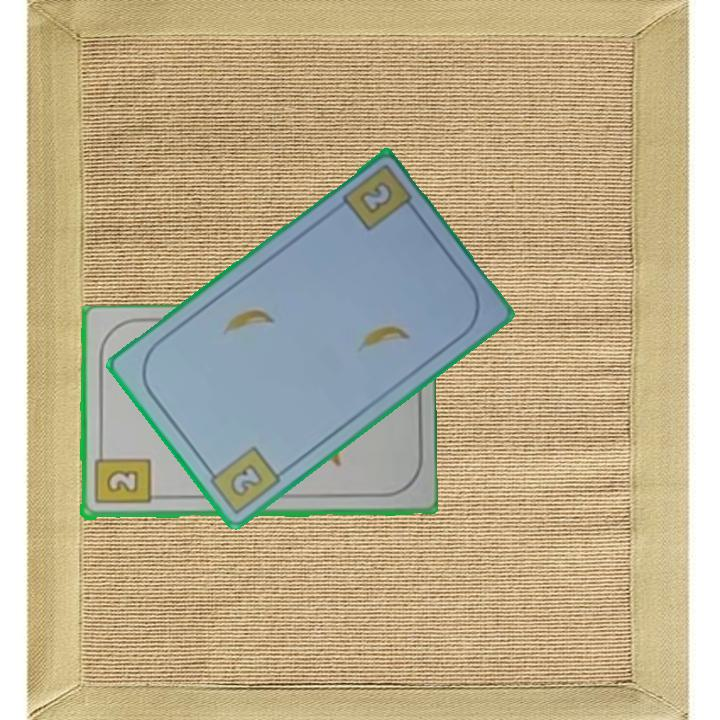2b: (201, 443, 284, 517), (91, 446, 152, 507), (355, 178, 396, 218)
